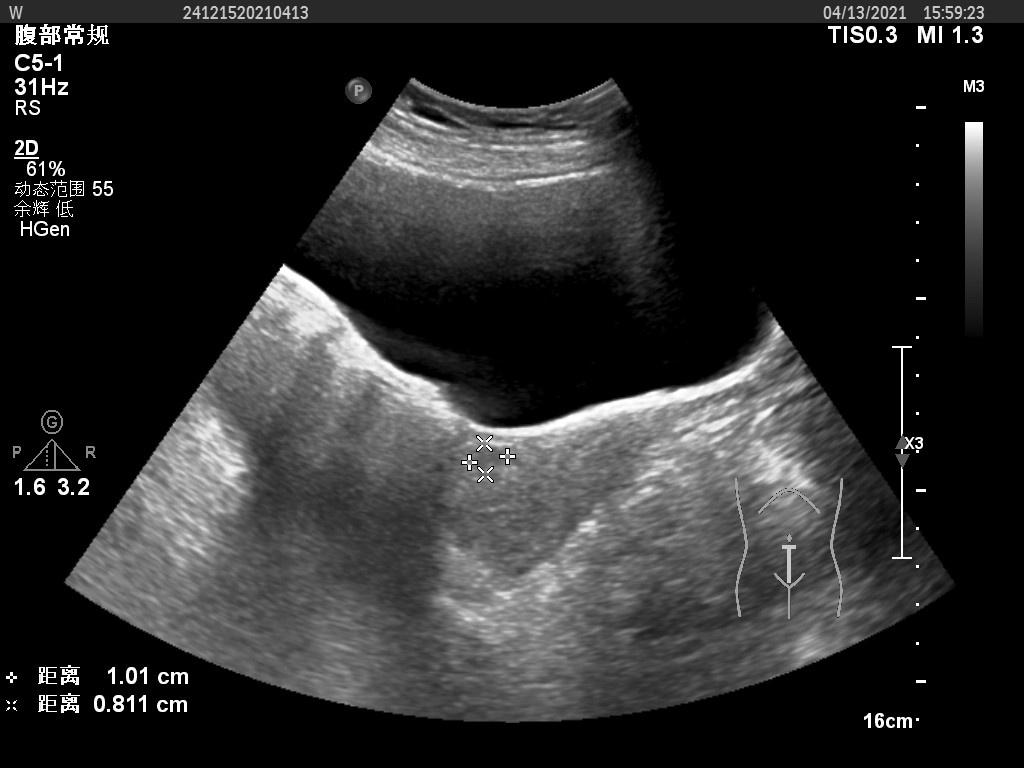肌瘤: (469, 446, 506, 473)
